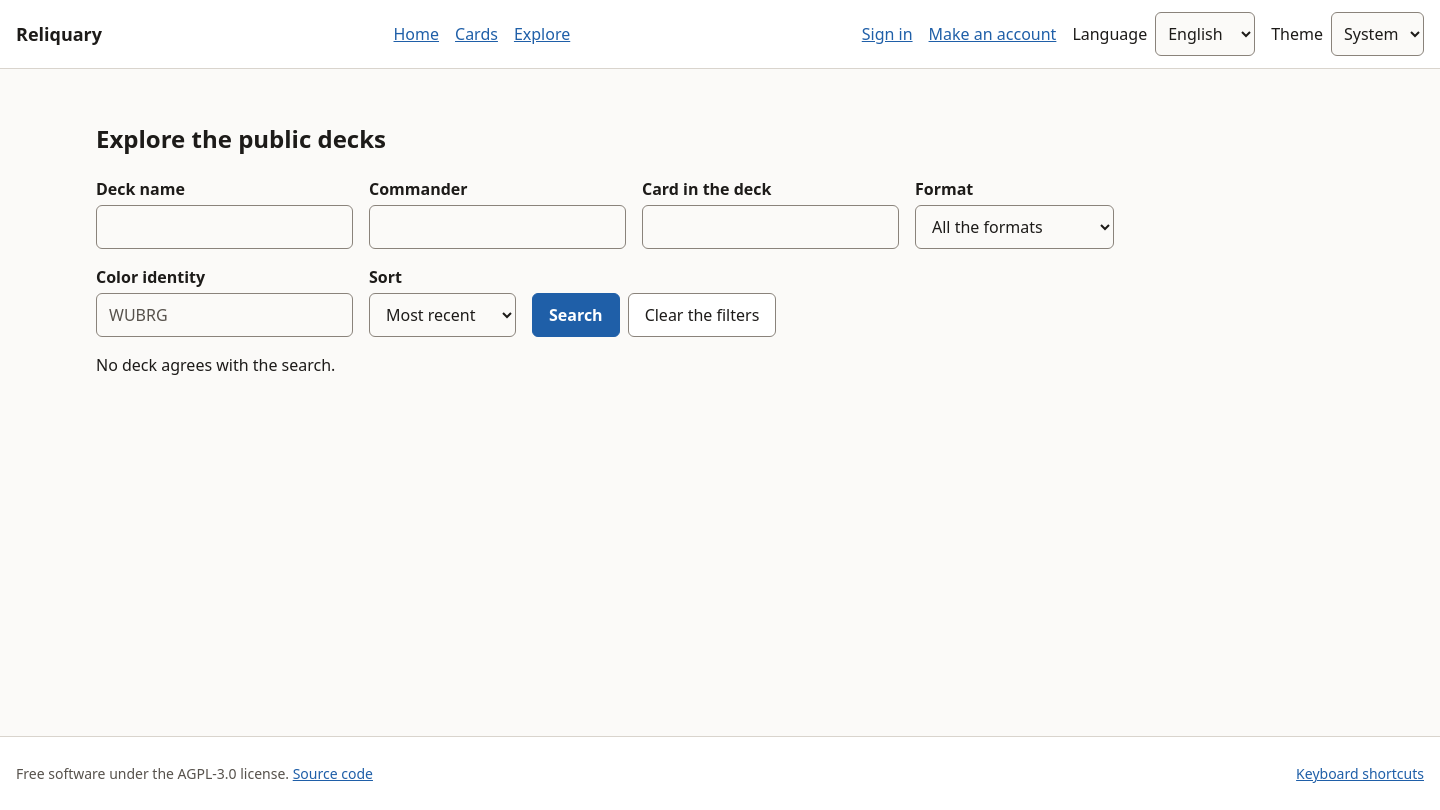
Scenario: public decks › lets a visitor search the public decks by commander
The width and height of the screenshot is (1440, 810).
Expected: the text "No deck agrees with the search." is shown, [96,354,335,376]
Type "Atraxa" into the field labelled "Commander".
click(498, 227); type("Atraxa")  # box [369,205,626,249]
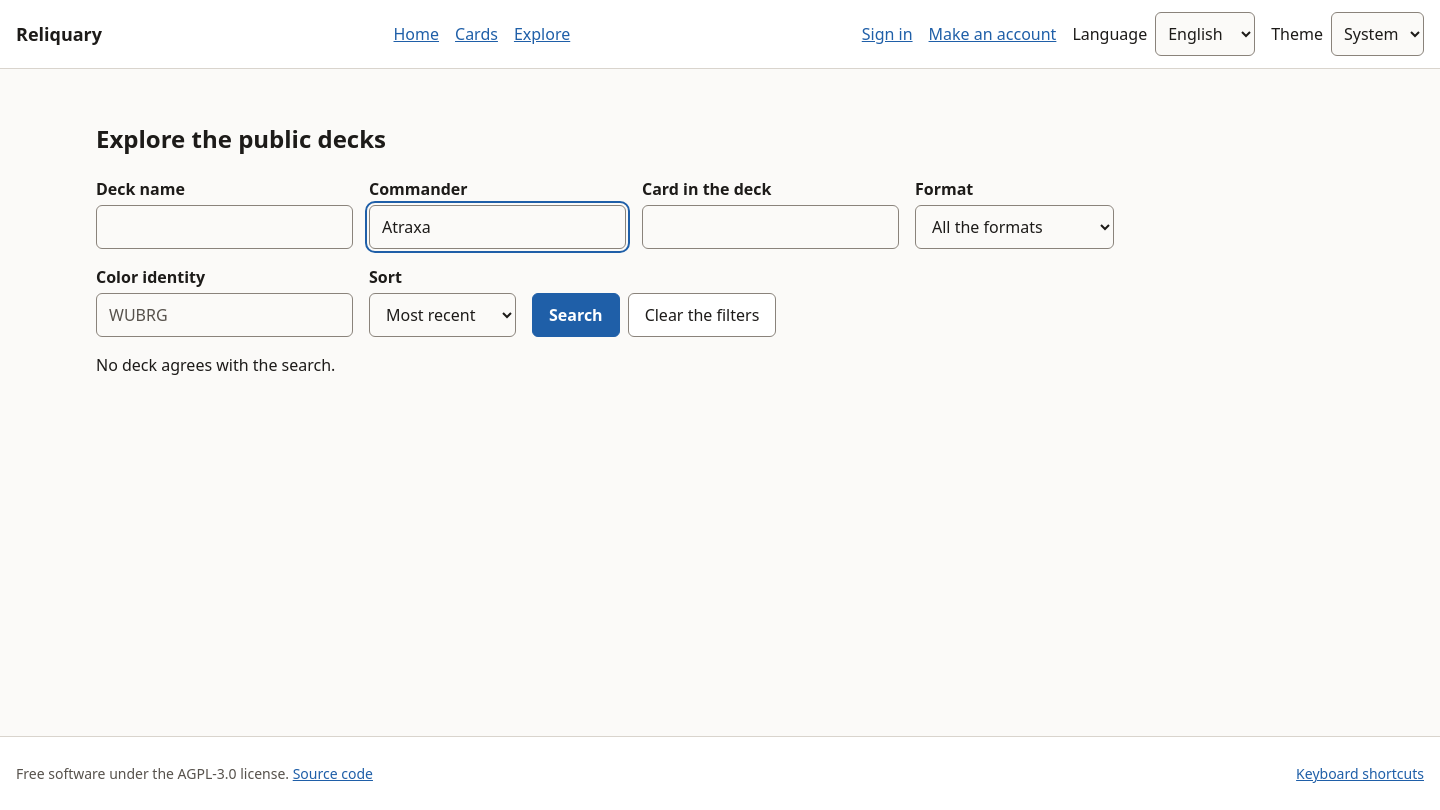
Click the button "Search".
click(576, 315)  # box [532,293,620,337]
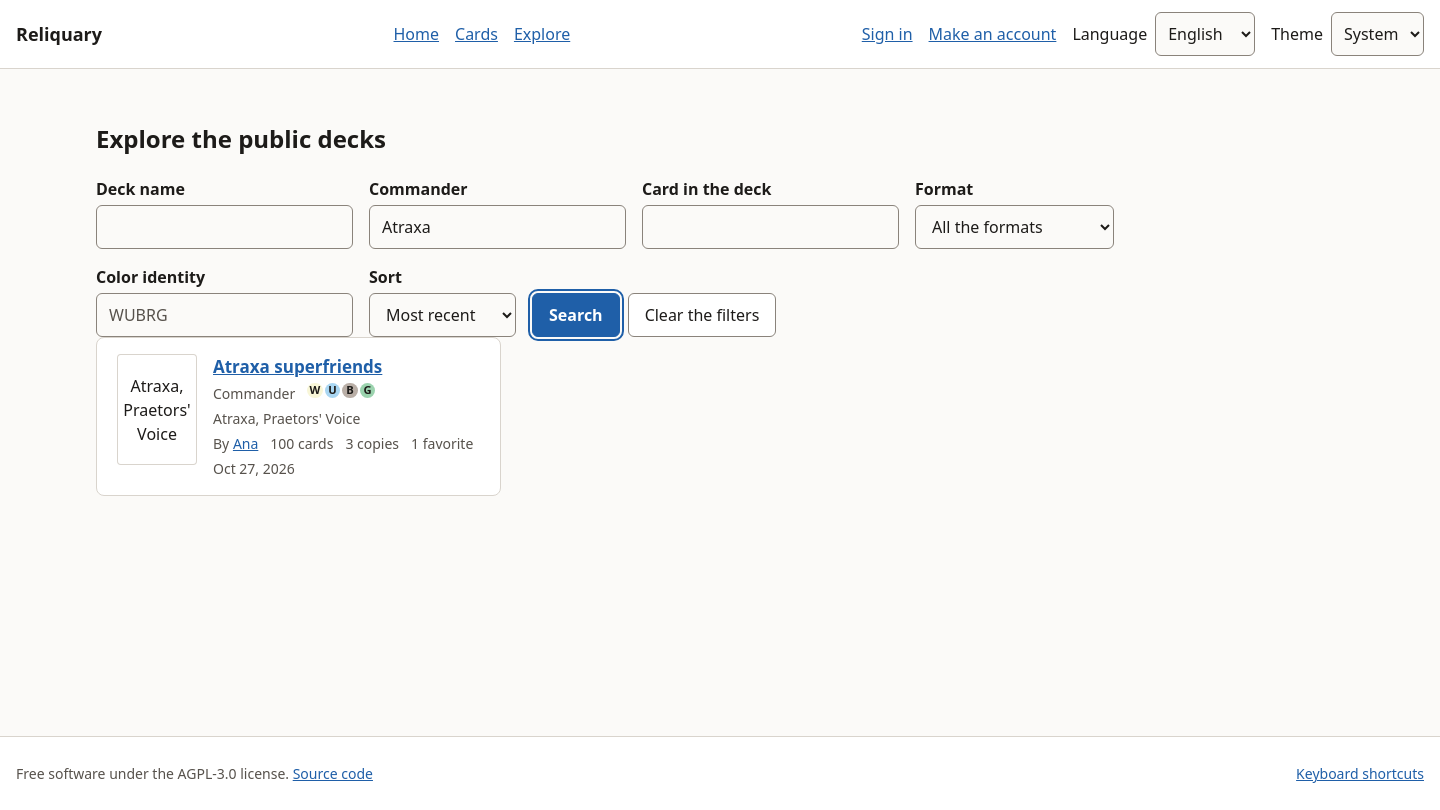
Expected: the text "3 copies" is shown, [345,433,399,454]
